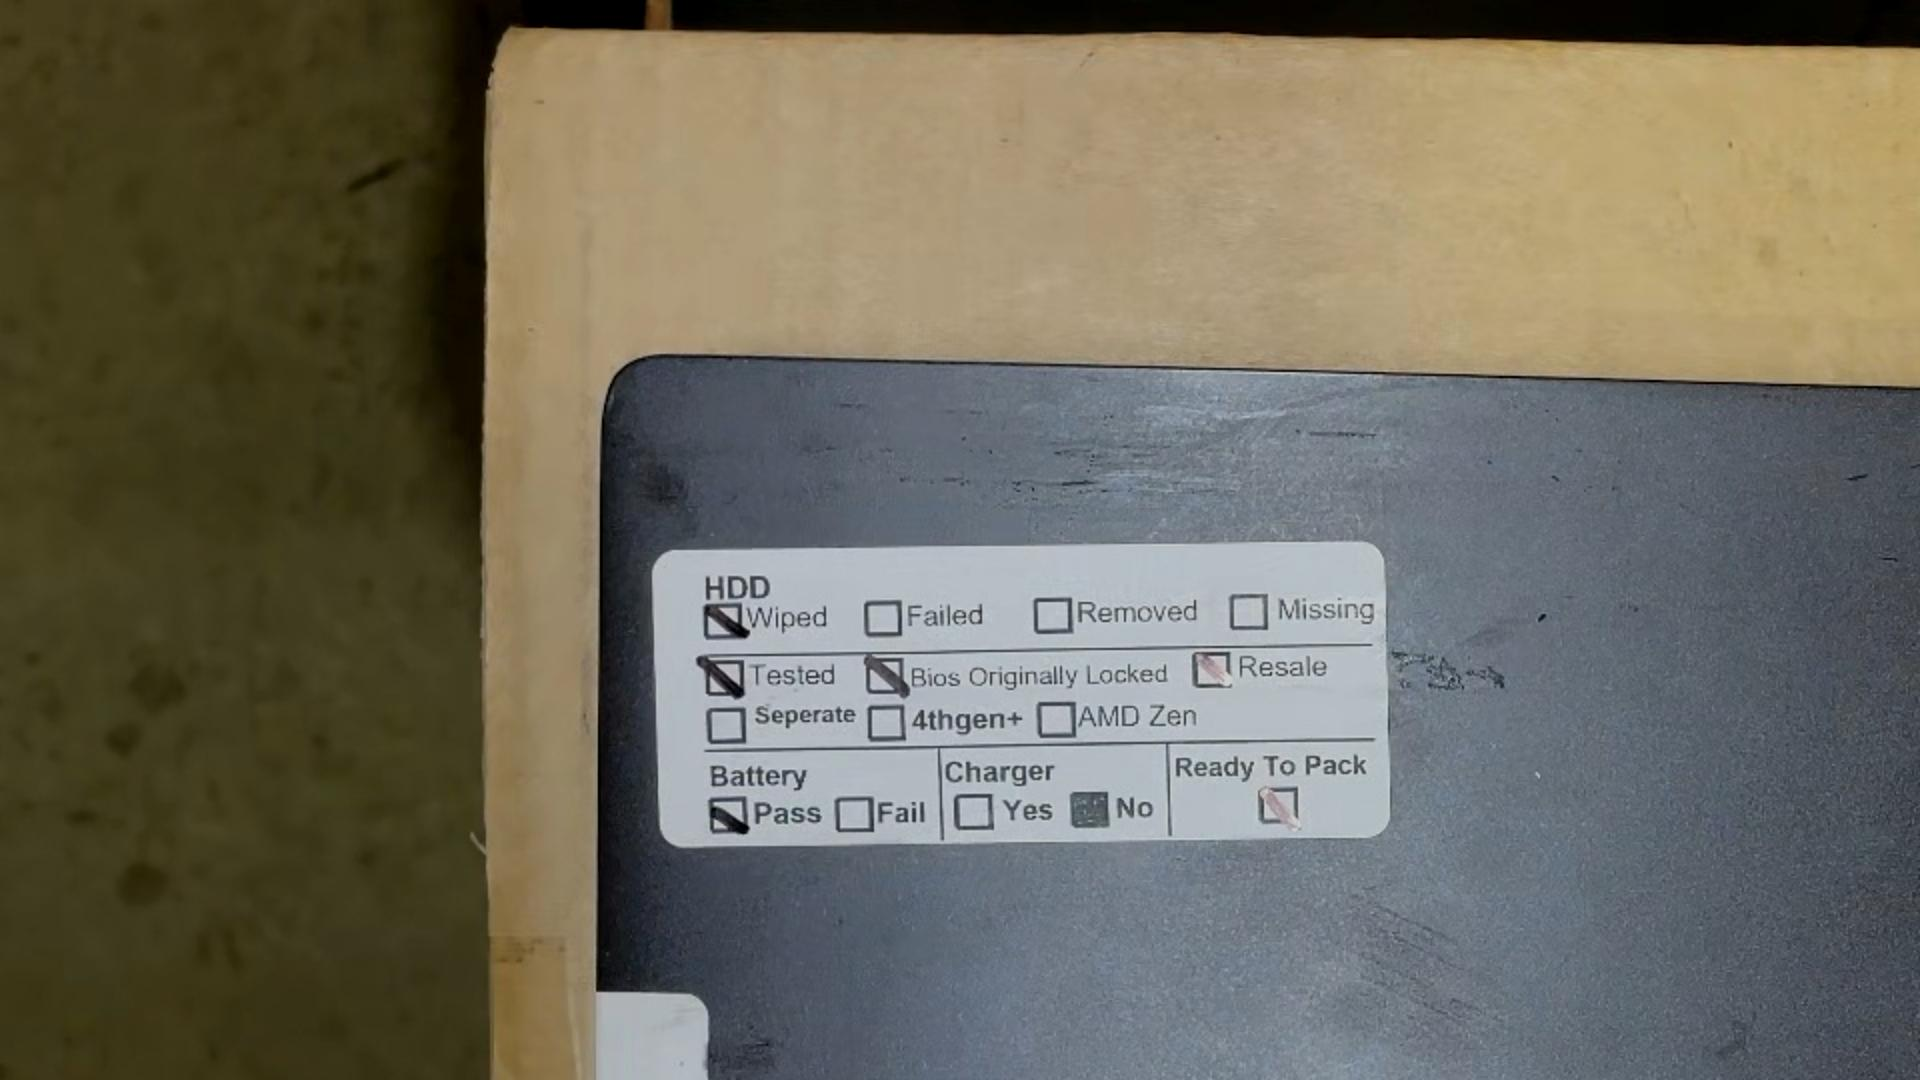chip: (1389, 647, 1505, 692), (1536, 613, 1548, 624), (1534, 770, 1542, 779), (1486, 459, 1493, 465)
scratches: (1354, 951, 1499, 1022), (1358, 973, 1464, 1026), (1356, 894, 1460, 947), (1379, 927, 1464, 975), (1309, 430, 1379, 439), (1039, 479, 1096, 487), (1842, 472, 1870, 481), (1879, 556, 1900, 563), (1549, 473, 1561, 483), (1909, 463, 1920, 471)
